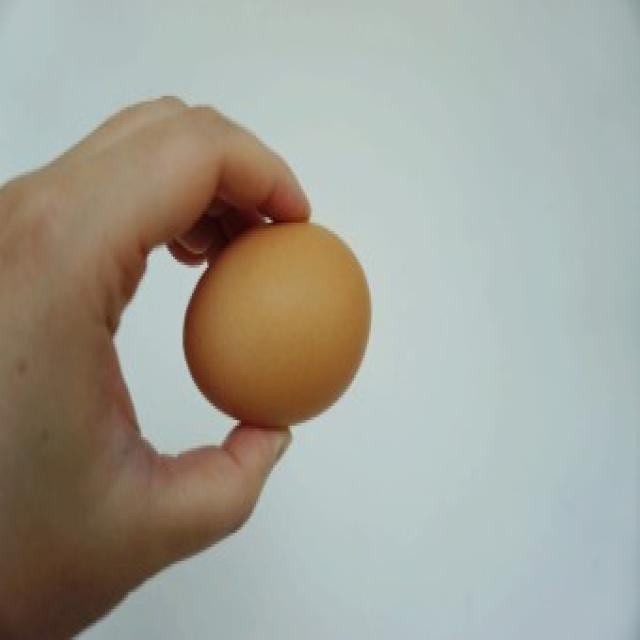eggs: (178, 217, 372, 428)
